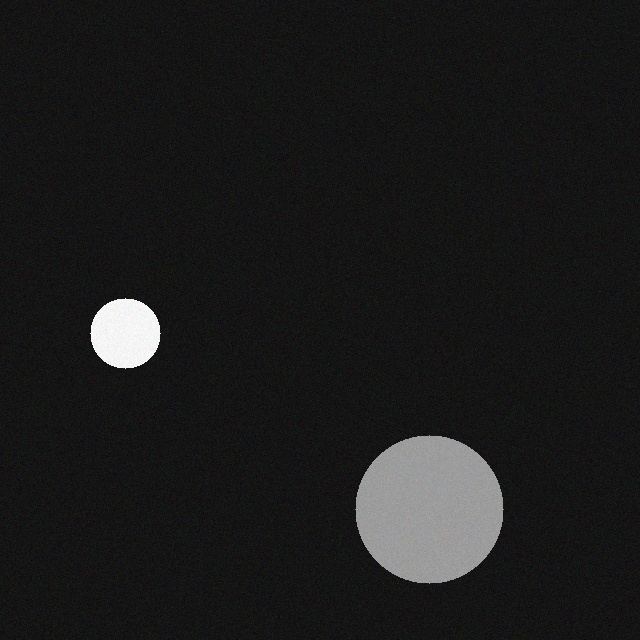circle: (358, 431, 506, 579), (93, 294, 163, 364)
